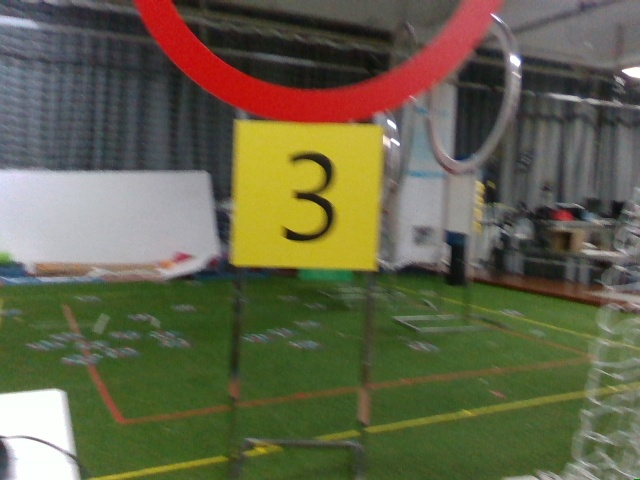target: (240, 124, 368, 264)
